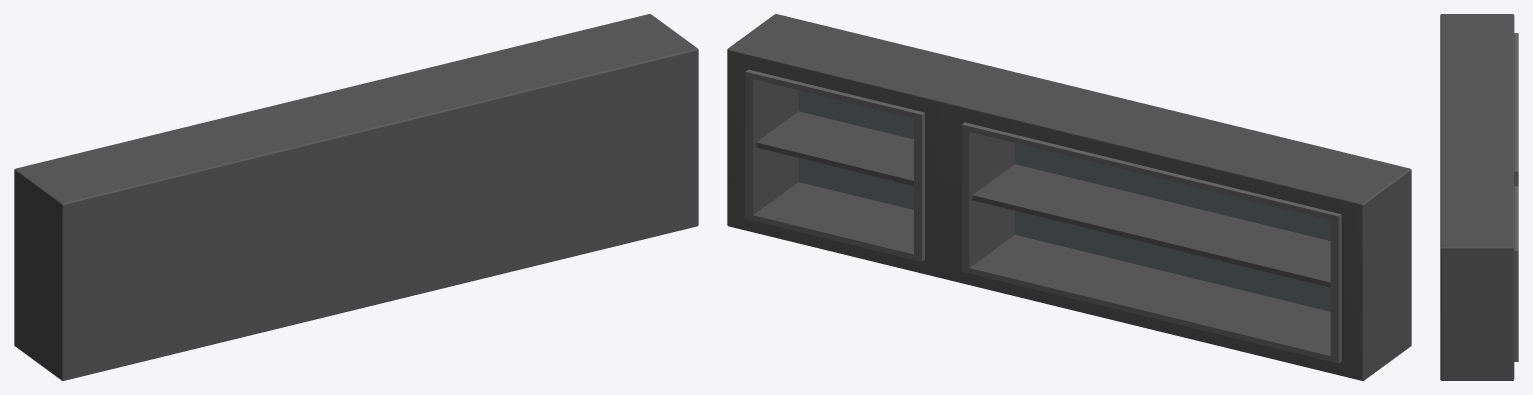
The model's file is ARMARIO_BAIXO_Versao_MEDIA.fbx.
3 renders of one model, left to right at view 1: azimuth 30°, elevation 25°; view 2: azimuth 150°, elevation 25°; view 3: azimuth 270°, elevation 25°, orthographic. The views are drawn at different scales.
Visible parts, largest first — view 1: pCube6; view 2: pCube6; view 3: pCube6.
Boxes of the visible parts, box(x1,y1,x2,y2) form: pCube6: box(14, 14, 698, 380); pCube6: box(727, 14, 1411, 380); pCube6: box(1440, 14, 1518, 380).
Size of the model in its own units: 562 by 150 by 79.58.
